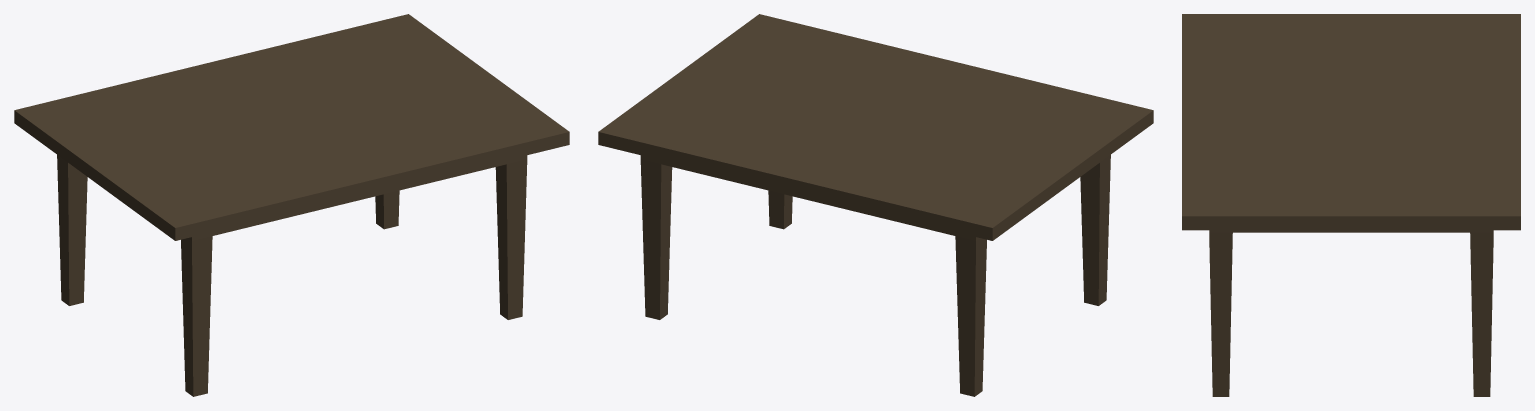
Rendered from Table01.fbx.
3 renders of one model, left to right at view 1: azimuth 30°, elevation 25°; view 2: azimuth 150°, elevation 25°; view 3: azimuth 270°, elevation 25°, orthographic. The views are drawn at different scales.
Parts seen in each view (by area): view 1: Cube; view 2: Cube; view 3: Cube.
Boxes of the visible parts, x1,y1,x2,y2 form: Cube: (14, 14, 569, 396); Cube: (598, 14, 1153, 396); Cube: (1182, 14, 1520, 396).
Size of the model in its own units: 313 by 142 by 222.
